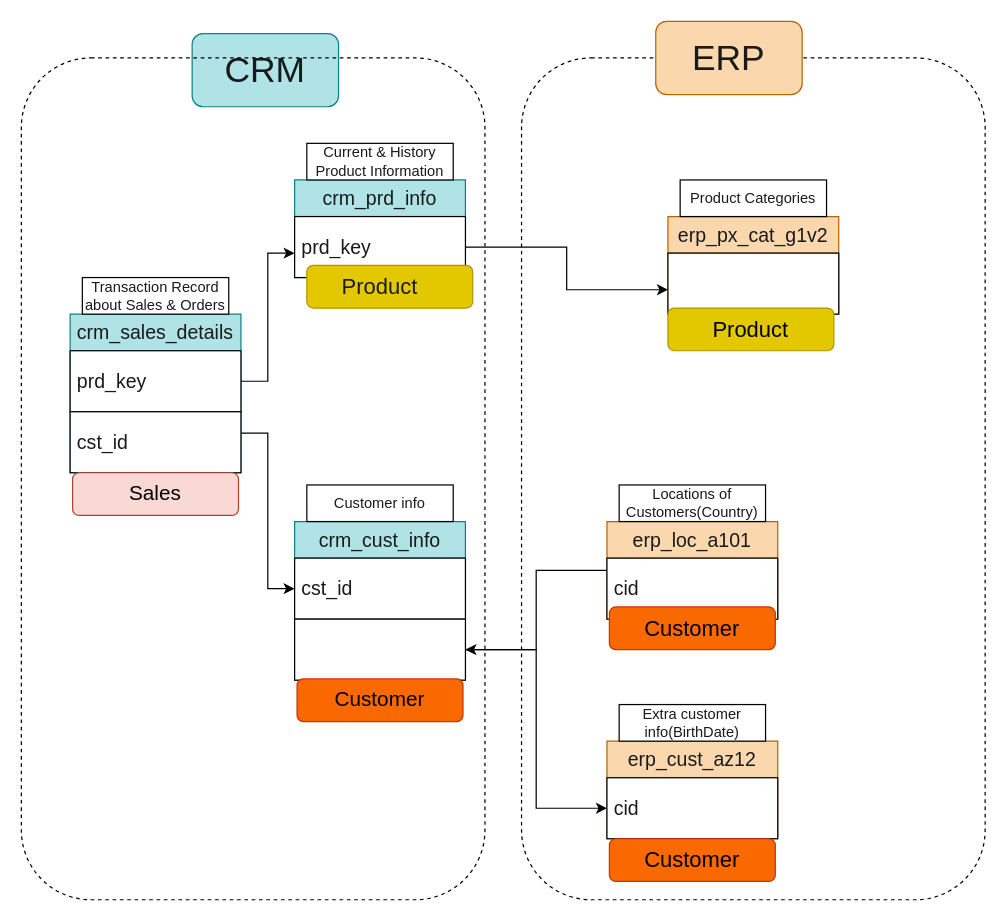
The diagram is 1007 pixels wide and 921 high, and some of its shapes have lost their labels. Here are the shapes that lost their labels. From the top down, the centre of each, then its label:
the point at 753,283: id
the point at 379,649: cst_key
